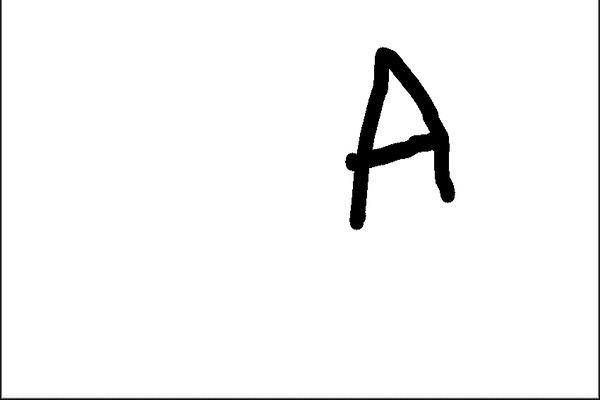A: (330, 37, 468, 226)
